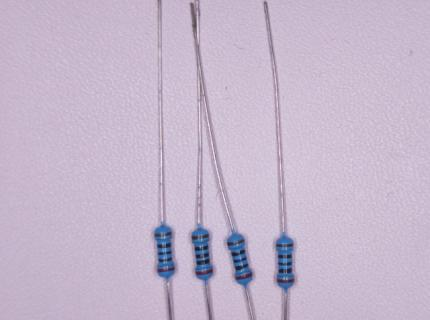Black band: (194, 244, 209, 252), (231, 249, 246, 257), (233, 256, 248, 264), (195, 252, 210, 259), (196, 258, 210, 265), (235, 264, 249, 271), (158, 250, 173, 256), (157, 243, 171, 249), (159, 258, 173, 263), (279, 268, 292, 273), (278, 262, 292, 266), (278, 255, 292, 259)
Brown band: (227, 238, 245, 246), (154, 231, 173, 237), (191, 234, 210, 240), (276, 243, 294, 248)
Red band: (235, 272, 254, 281), (195, 268, 214, 276), (157, 267, 175, 273), (277, 279, 295, 283)
